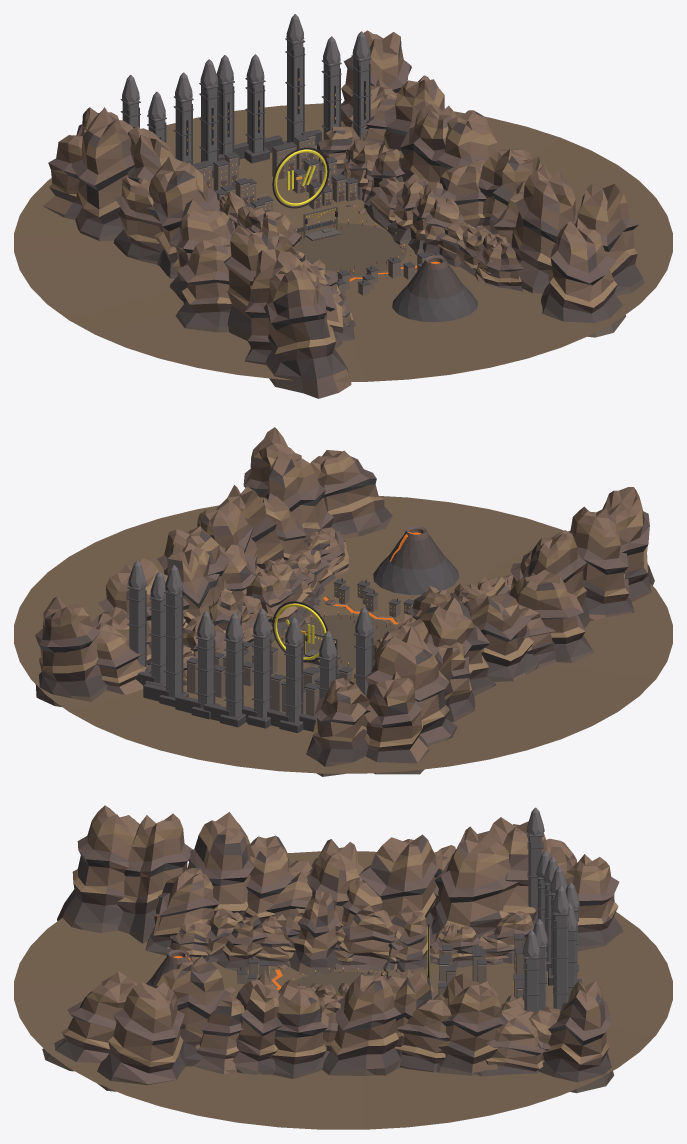
File: stage_top.glb
3 views of the same model, one above another, from view 1: azimuth 30°, elevation 25°; view 2: azimuth 150°, elevation 25°; view 3: azimuth 270°, elevation 25° (orthographic).
Parts seen in each view (by area): view 1: top_sand, top_rock, top_shale, top_ochre, top_rock2, top_basalt, top_concrete, top_town, top_ground, top_talus, anchor_emit_yellow, top_dark; view 2: top_sand, top_rock, top_shale, top_ochre, top_concrete, top_rock2, top_basalt, top_town, top_ground, top_talus, anchor_emit_yellow; view 3: top_rock, top_sand, top_shale, top_ochre, top_rock2, top_basalt, top_concrete, top_talus, top_town, top_ground.
Part boxes in pixels (x1,y1,x2,y2): top_sand: [14, 103, 672, 381]; top_rock: [43, 30, 634, 392]; top_shale: [48, 60, 638, 398]; top_ochre: [49, 46, 637, 354]; top_rock2: [49, 38, 642, 379]; top_basalt: [64, 38, 621, 329]; top_concrete: [122, 14, 370, 230]; top_town: [198, 135, 426, 295]; top_ground: [298, 223, 406, 276]; top_talus: [43, 118, 644, 398]; anchor_emit_yellow: [274, 149, 326, 205]; top_dark: [133, 68, 402, 272]; top_sand: [14, 496, 672, 773]; top_rock: [39, 427, 651, 762]; top_shale: [35, 453, 649, 751]; top_ochre: [40, 431, 647, 747]; top_concrete: [128, 560, 372, 722]; top_rock2: [39, 458, 651, 763]; top_basalt: [39, 478, 648, 732]; top_town: [187, 582, 413, 716]; top_ground: [280, 615, 395, 668]; top_talus: [35, 516, 654, 776]; anchor_emit_yellow: [274, 603, 326, 659]; top_rock: [62, 805, 614, 1074]; top_sand: [14, 851, 672, 1129]; top_shale: [57, 832, 619, 1084]; top_ochre: [61, 813, 618, 1068]; top_rock2: [54, 834, 621, 1082]; top_basalt: [70, 833, 604, 1055]; top_concrete: [522, 807, 579, 1012]; top_talus: [42, 922, 623, 1093]; top_town: [237, 940, 524, 999]; top_ground: [293, 971, 377, 992].
Size of the model in its own units: 479 by 116 by 479.
